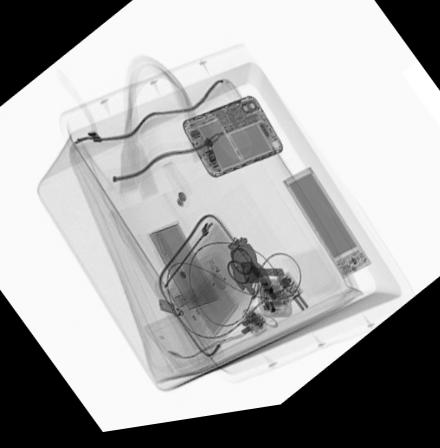Powerbank: (279, 172, 372, 289)
